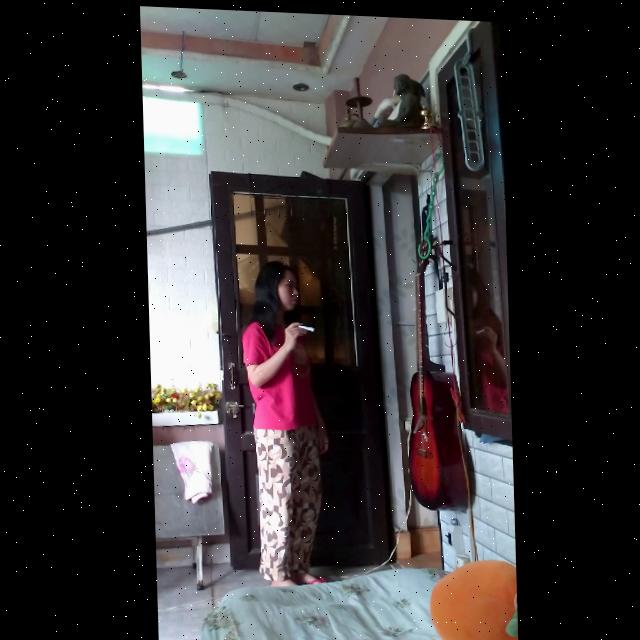cigarette: (296, 323, 312, 328)
